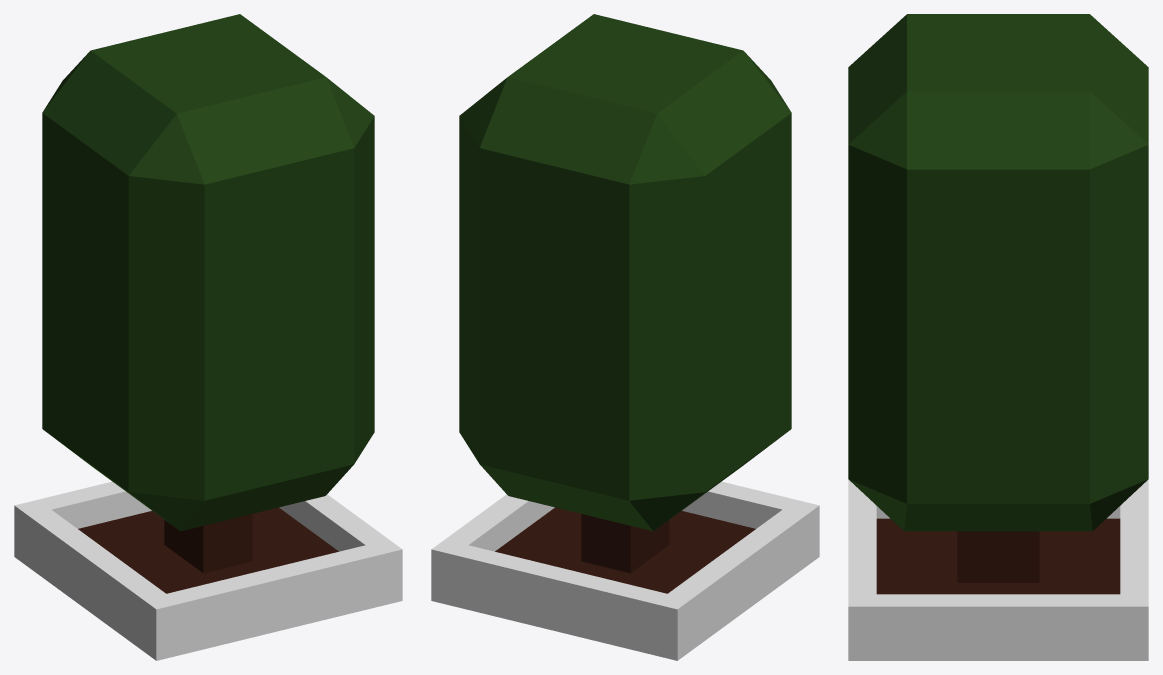
The model's file is Hedge.005.fbx.
3 views of the same model, side by side, from view 1: azimuth 30°, elevation 25°; view 2: azimuth 150°, elevation 25°; view 3: azimuth 270°, elevation 25° (orthographic). The views are drawn at different scales.
Parts seen in each view (by area): view 1: Hedge.005; view 2: Hedge.005; view 3: Hedge.005.
Part boxes in pixels (x1,y1,x2,y2): Hedge.005: (14, 14, 402, 660); Hedge.005: (431, 14, 819, 660); Hedge.005: (848, 14, 1148, 660).
Bounding box in the file's own units: 100 × 200 × 100.
